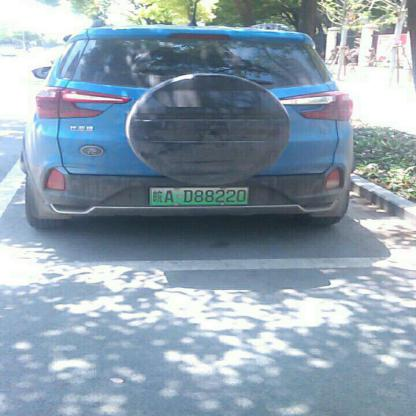lp: (149, 186, 248, 205)
